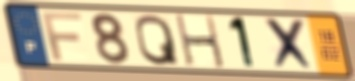1: (225, 14, 258, 71)
8: (89, 11, 132, 66)
F: (39, 11, 85, 63)
H: (172, 13, 228, 70)
Q: (134, 13, 182, 67)
X: (262, 16, 319, 73)
